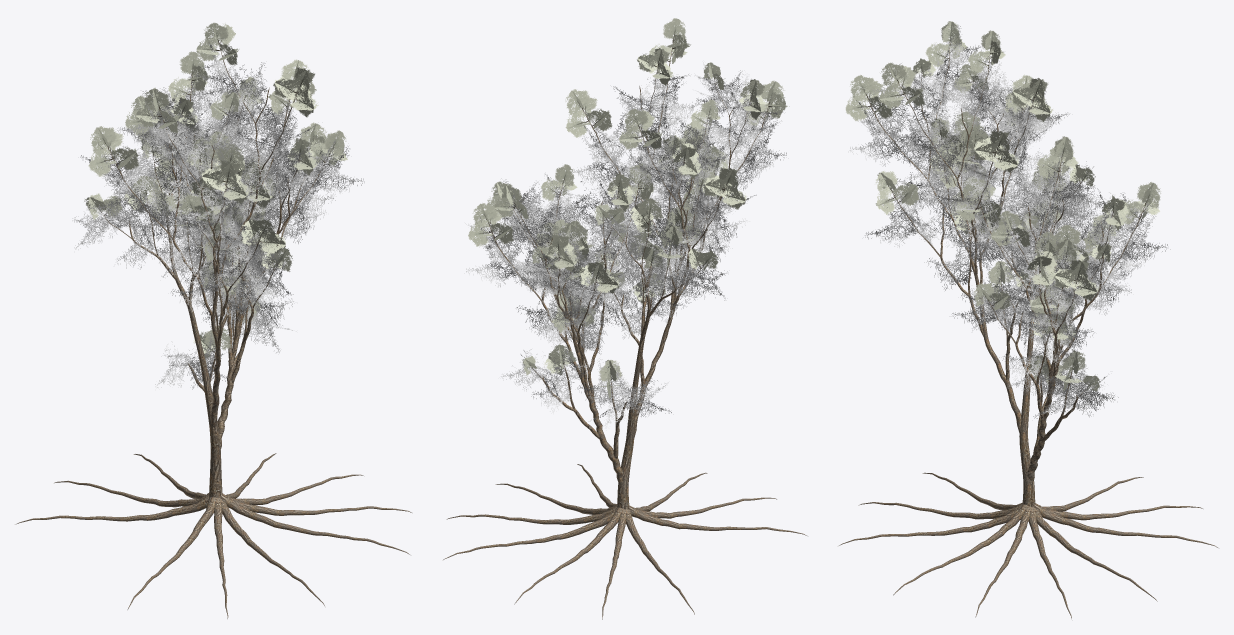
File: MESH_OC56_MelaleucaAlternifolia_Y_LOD0.fbx
3 renders of one model, left to right at view 1: azimuth 30°, elevation 25°; view 2: azimuth 150°, elevation 25°; view 3: azimuth 270°, elevation 25°, orthographic. The views are drawn at different scales.
Parts seen in each view (by area): view 1: MI_LOD0_001, MI_LOD0_002, MI_LOD0; view 2: MI_LOD0_001, MI_LOD0_002, MI_LOD0; view 3: MI_LOD0_001, MI_LOD0_002, MI_LOD0.
Boxes of the visible parts, box(x1,y1,x2,y2) form: MI_LOD0_001: box(72, 42, 364, 389); MI_LOD0_002: box(84, 22, 347, 358); MI_LOD0: box(15, 44, 411, 618); MI_LOD0_001: box(464, 62, 786, 430); MI_LOD0_002: box(468, 18, 789, 398); MI_LOD0: box(443, 42, 806, 619); MI_LOD0_001: box(848, 25, 1170, 418); MI_LOD0_002: box(845, 21, 1160, 391); MI_LOD0: box(839, 43, 1217, 618).
Bounding box in the file's own units: 265 × 428 × 293.
